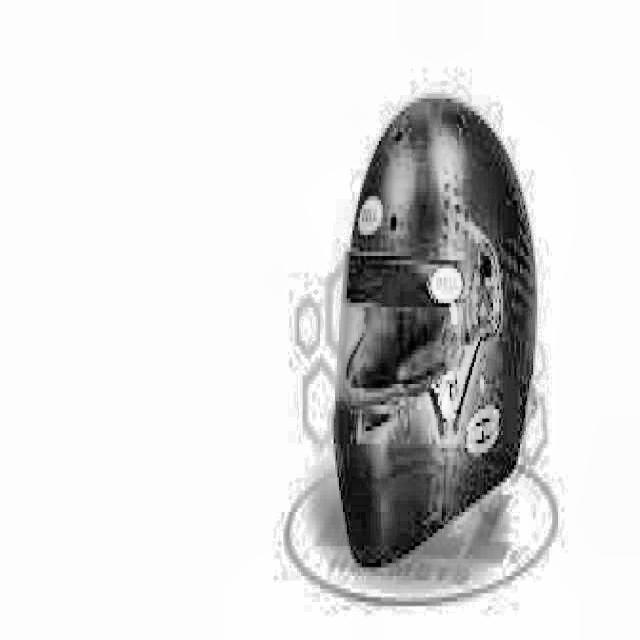Helmet: (329, 77, 549, 584)
